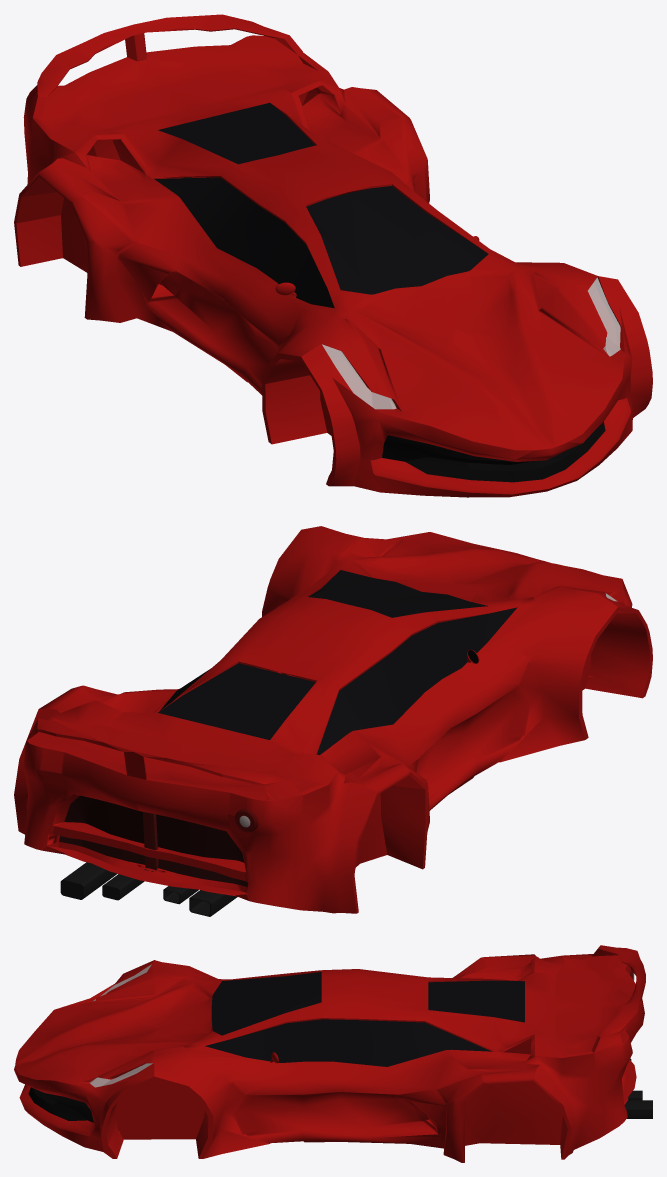
File: car2.FBX
The picture shows the model from 3 angles, top to bottom: view 1: azimuth 30°, elevation 25°; view 2: azimuth 150°, elevation 25°; view 3: azimuth 270°, elevation 25°; orthographic projection. The views are drawn at different scales.
Visible parts, largest first — view 1: Object007, Object010, Object019, Object016, Object023; view 2: Object007, Object010, Object015, Box003, Box002, Object014; view 3: Object007, Object010, Object019, Box003, Object023.
Part boxes in pixels (x1,y1,x2,y2): Object007: (14, 14, 652, 497); Object010: (154, 102, 488, 308); Object019: (382, 422, 605, 482); Object016: (322, 344, 396, 409); Object023: (588, 277, 620, 356); Object007: (14, 526, 652, 913); Object010: (158, 570, 517, 755); Object015: (59, 795, 247, 886); Box003: (60, 862, 153, 900); Box002: (163, 886, 237, 916); Object014: (143, 812, 158, 870); Object007: (14, 945, 645, 1162); Object010: (205, 972, 524, 1066); Object019: (28, 1087, 93, 1122); Box003: (624, 1090, 652, 1118); Object023: (89, 1063, 152, 1087).
Bounding box in the file's own units: 75.53 × 35.18 × 164.
